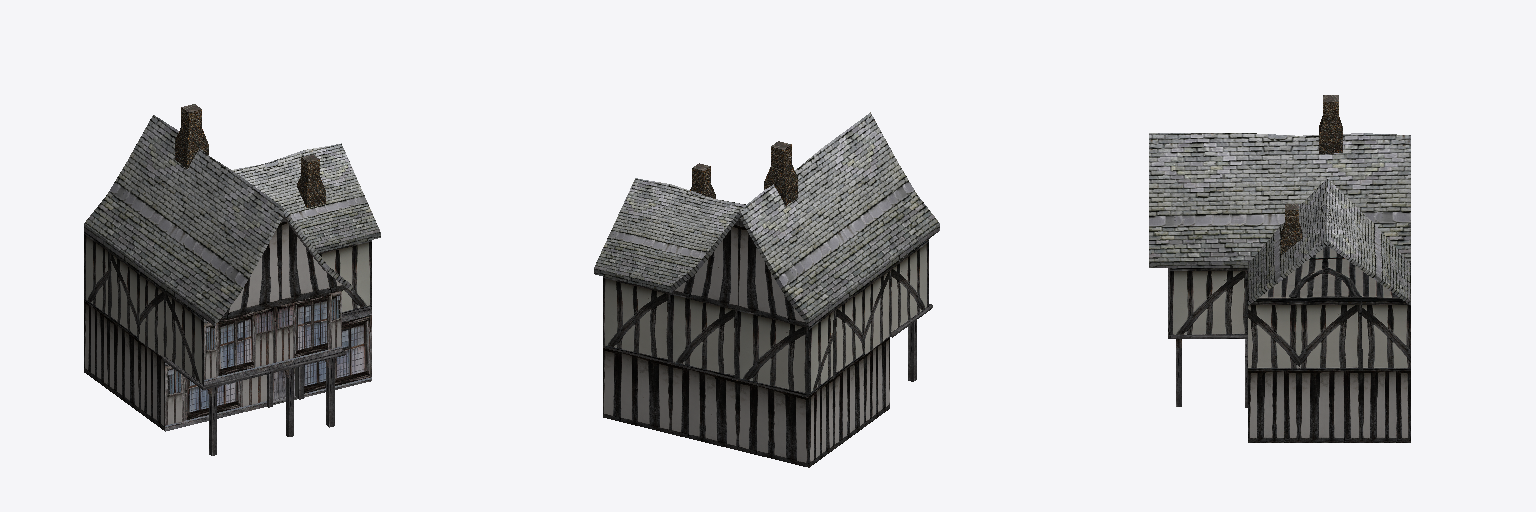
3 renders of one model, left to right at view 1: azimuth 30°, elevation 25°; view 2: azimuth 150°, elevation 25°; view 3: azimuth 270°, elevation 25°, orthographic.
Visible parts, largest first — view 1: __Form6, __Form8, __Group2_Form9; view 2: __Form6, __Form8; view 3: __Form6, __Form8.
Boxes of the visible parts, <box> form: __Form6: <box>84,115,380,431</box>; __Form8: <box>175,104,325,207</box>; __Group2_Form9: <box>209,358,334,455</box>; __Form6: <box>594,112,939,467</box>; __Form8: <box>690,141,797,205</box>; __Form6: <box>1149,133,1410,442</box>; __Form8: <box>1281,95,1342,254</box>.
Size of the model in its own units: 356 by 432 by 370.
1 materials, 1 textured.